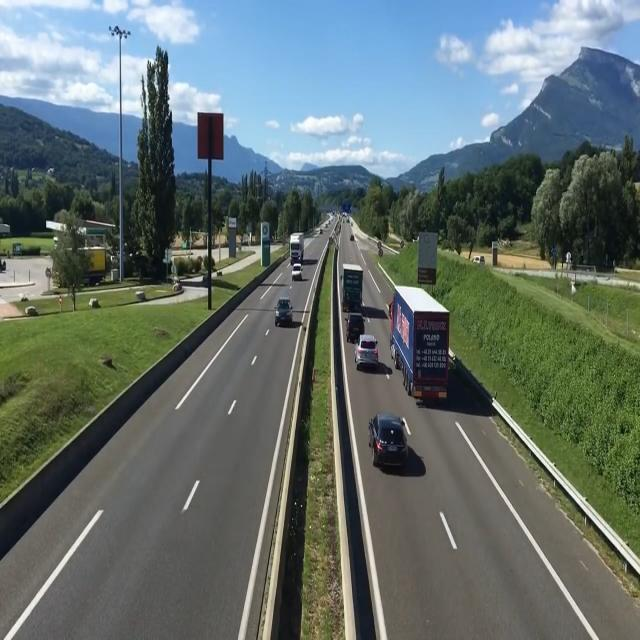car: (370, 409, 413, 474), (355, 332, 379, 374), (274, 291, 296, 332), (346, 310, 365, 339), (290, 262, 304, 283)
truck: (389, 273, 447, 407), (340, 259, 364, 310), (289, 231, 305, 264)
